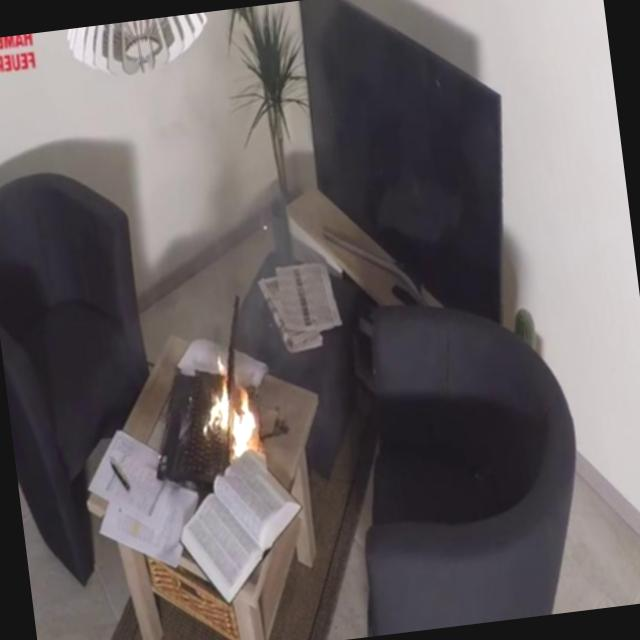fire: (188, 340, 286, 480)
